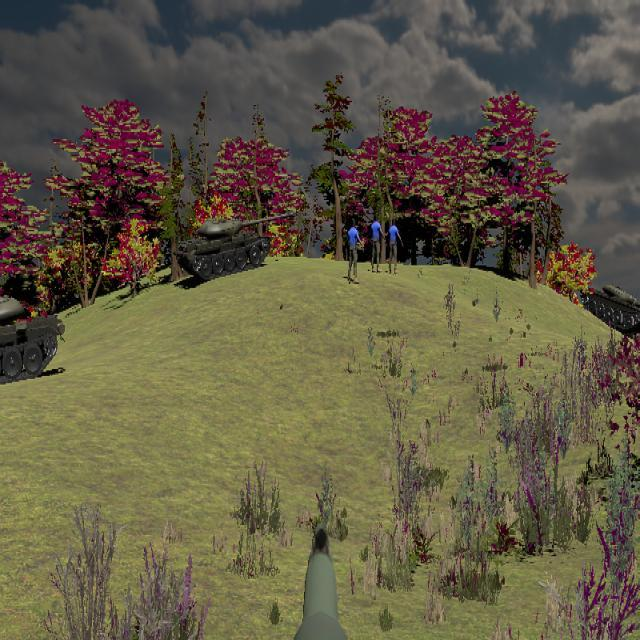Human: (345, 217, 364, 282), (367, 213, 385, 273), (385, 217, 403, 275)
Tank: (167, 212, 296, 280), (0, 294, 64, 389), (576, 283, 640, 336)
